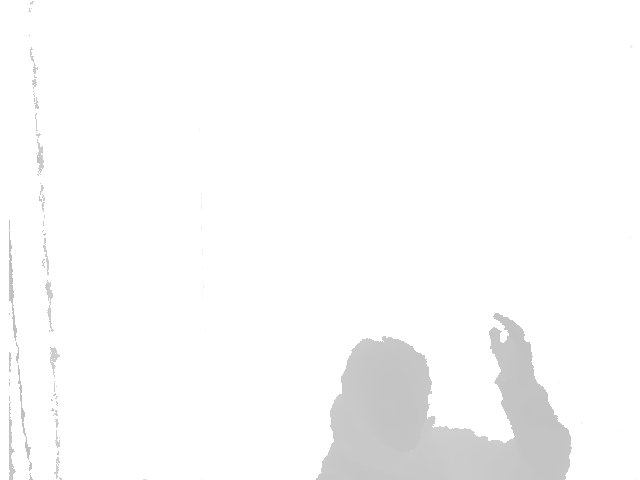hand: (486, 314, 541, 390)
head: (329, 338, 438, 440)
person: (318, 312, 573, 480)
